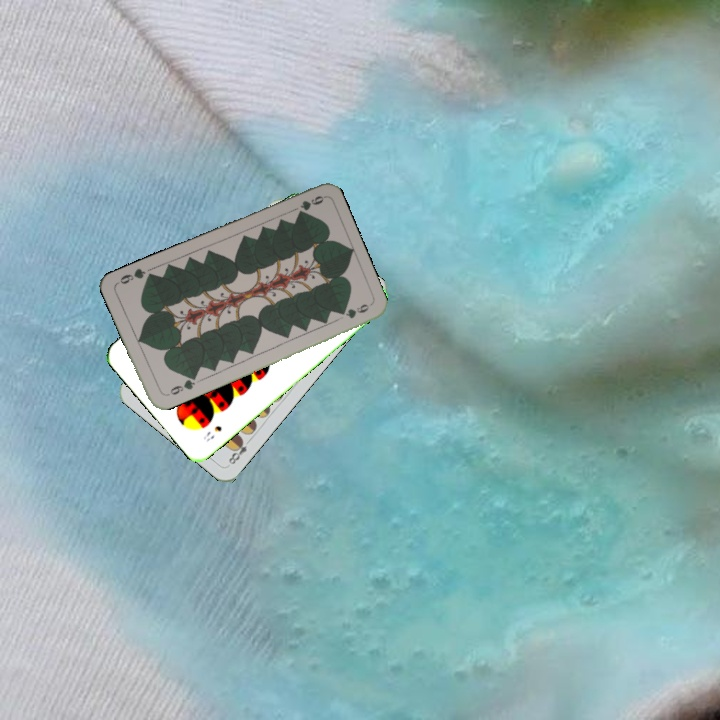E8: (224, 434, 254, 467)
G9: (161, 373, 198, 399), (293, 191, 326, 218)
S8: (199, 421, 224, 444)
